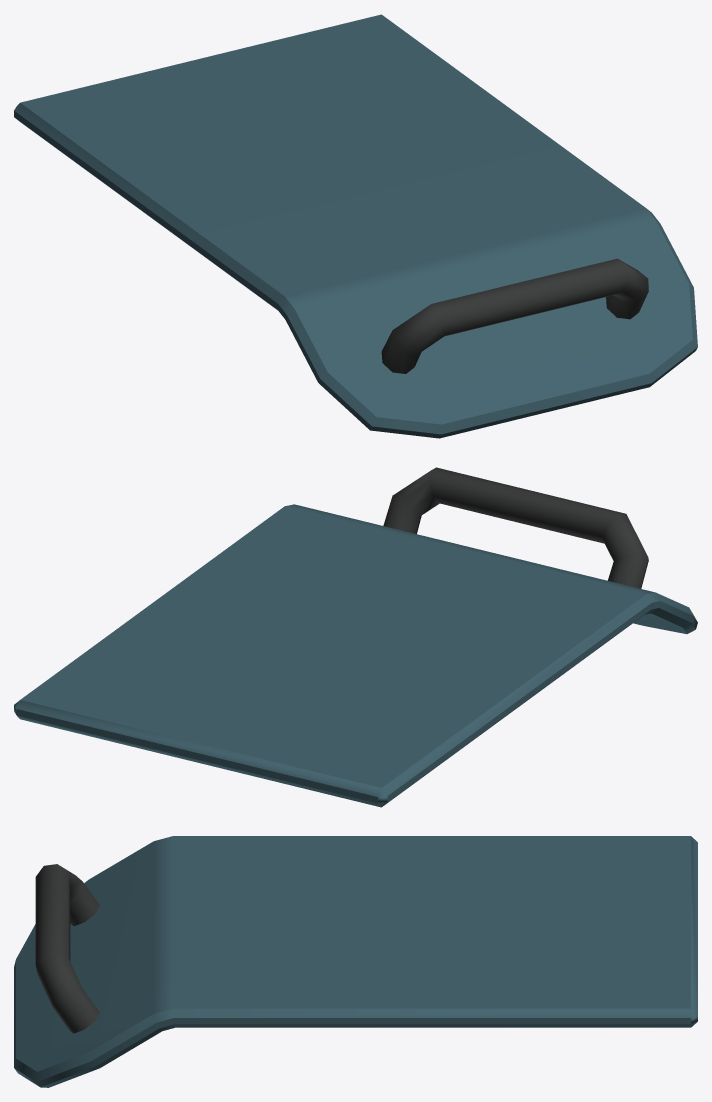
Rendered from Cargo_Drone_002_Cap_002.fbx.
3 renders of one model, top to bottom at view 1: azimuth 30°, elevation 25°; view 2: azimuth 150°, elevation 25°; view 3: azimuth 270°, elevation 25°, orthographic. The views are drawn at different scales.
Parts seen in each view (by area): view 1: Cargo_Drone_002_Cap_002; view 2: Cargo_Drone_002_Cap_002; view 3: Cargo_Drone_002_Cap_002.
Part boxes in pixels (x1,y1,x2,y2): Cargo_Drone_002_Cap_002: (14, 14, 697, 438); Cargo_Drone_002_Cap_002: (14, 467, 697, 807); Cargo_Drone_002_Cap_002: (14, 836, 697, 1087).
Bounding box in the file's own units: 34.86 × 56.42 × 10.58.
